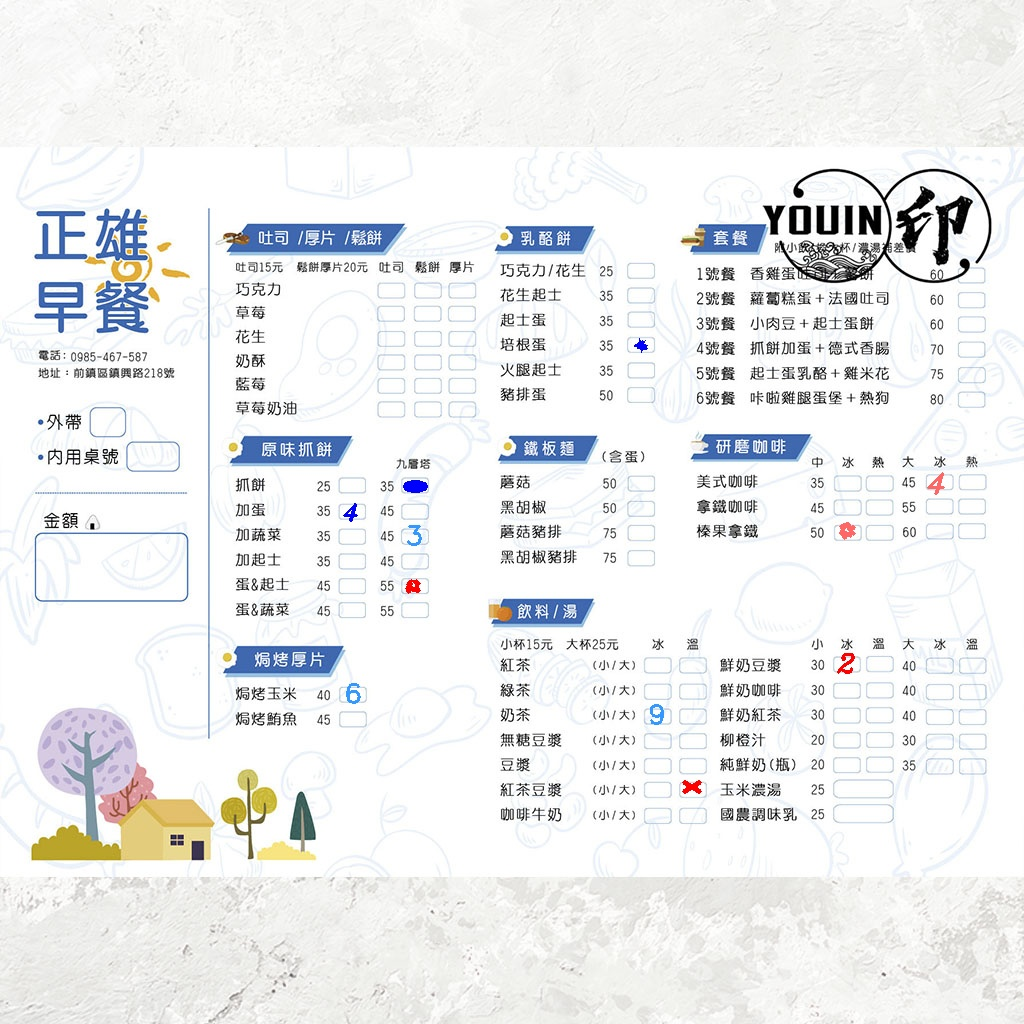marked_circle: (401, 478, 427, 492), (627, 337, 653, 351)
marked_hollow: (400, 579, 426, 593), (834, 524, 860, 538)
marked_number_2: (834, 657, 860, 671)
marked_number_3: (401, 528, 427, 542)
marked_number_4: (338, 503, 364, 517), (925, 474, 951, 488)
marked_number_6: (340, 686, 366, 700)
marked_number_9: (644, 707, 670, 721)
marked_x: (679, 780, 705, 794)
